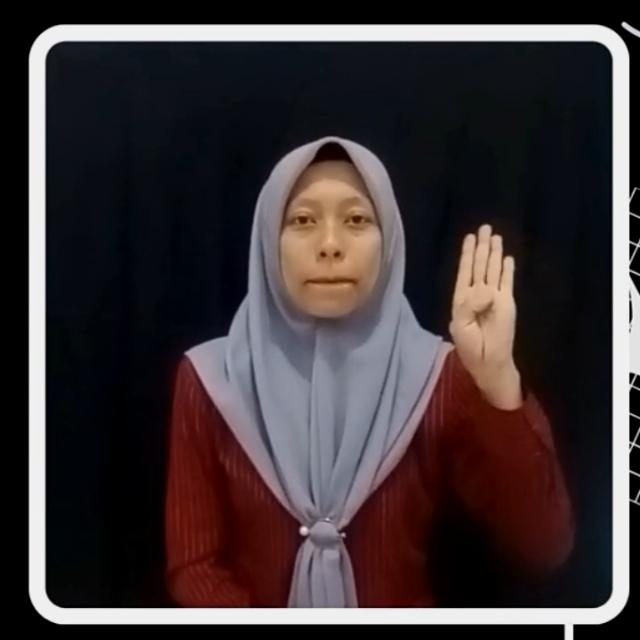B: (447, 224, 519, 376)
